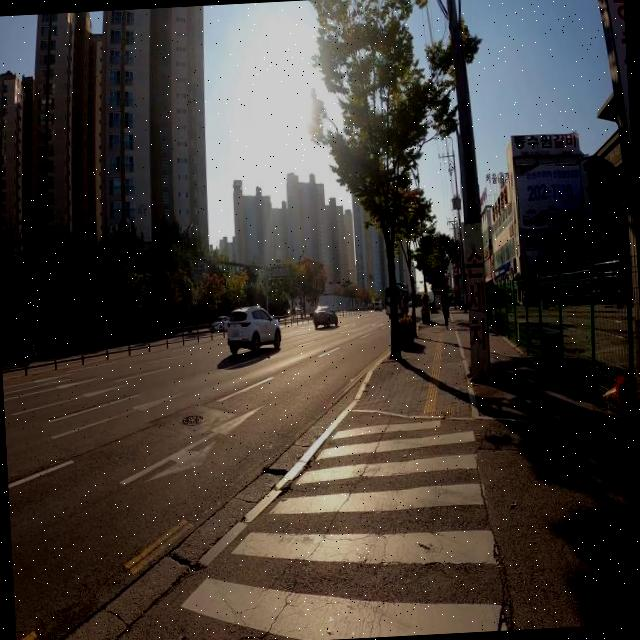crosswalk: (147, 417, 509, 640)
